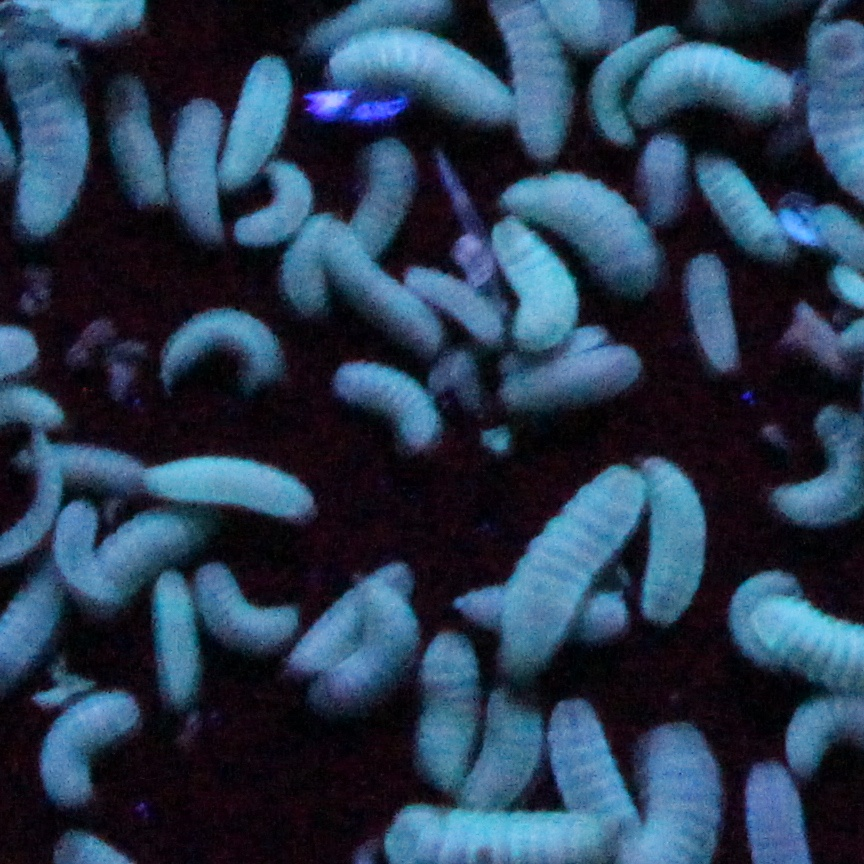larve: (503, 461, 653, 656), (494, 165, 669, 290), (305, 212, 449, 361), (323, 32, 516, 125), (625, 41, 796, 136), (149, 301, 309, 401), (478, 214, 587, 345), (687, 141, 802, 259), (289, 561, 411, 672), (29, 683, 140, 805), (140, 450, 322, 519), (91, 498, 207, 603), (322, 576, 414, 708), (547, 705, 638, 836), (323, 361, 451, 454), (640, 447, 703, 625), (676, 248, 760, 378), (163, 96, 234, 247), (502, 345, 653, 416), (216, 52, 291, 185), (589, 23, 673, 141), (142, 568, 213, 705), (467, 679, 543, 805), (189, 565, 294, 656), (338, 138, 414, 254), (456, 585, 631, 634), (102, 74, 167, 205), (45, 503, 127, 601), (422, 634, 474, 785), (9, 439, 160, 490), (403, 263, 498, 338), (729, 572, 793, 667), (245, 161, 311, 243), (636, 125, 689, 221)
